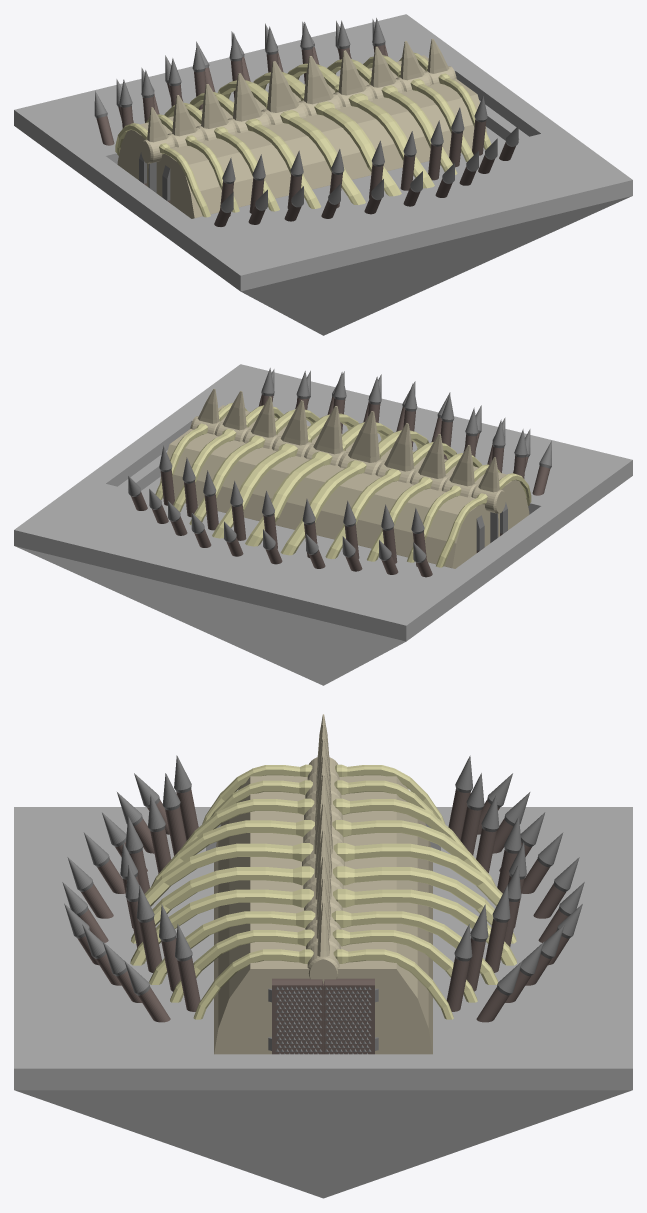
File: Building Bunker T2.fbx
3 views of the same model, one above another, from view 1: azimuth 30°, elevation 25°; view 2: azimuth 150°, elevation 25°; view 3: azimuth 270°, elevation 25° (orthographic). The views are drawn at different scales.
Parts seen in each view (by area): view 1: Bunker T2; view 2: Bunker T2; view 3: Bunker T2.
Part boxes in pixels (bbox=[...]): Bunker T2: bbox=[14, 14, 632, 335]; Bunker T2: bbox=[14, 364, 632, 685]; Bunker T2: bbox=[14, 714, 632, 1198].
Bounding box in the file's own units: 1599 × 1115 × 1599.
